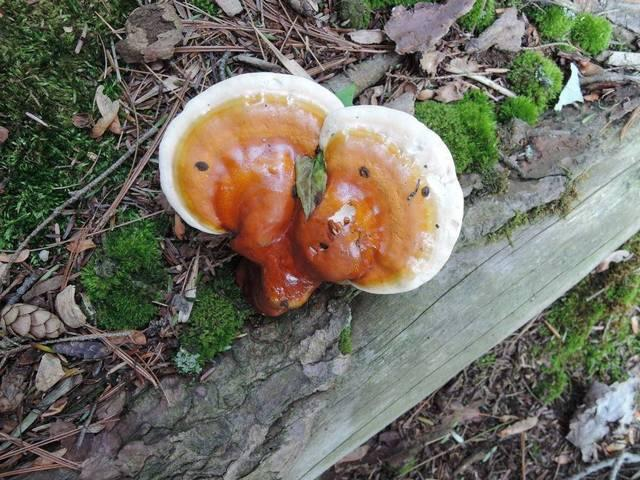poisonous_mushroom: (157, 70, 465, 317), (296, 103, 465, 295)
